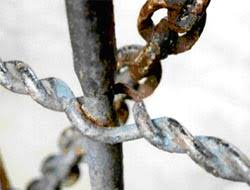rust: (135, 1, 213, 64), (107, 33, 166, 101), (70, 92, 139, 147)
